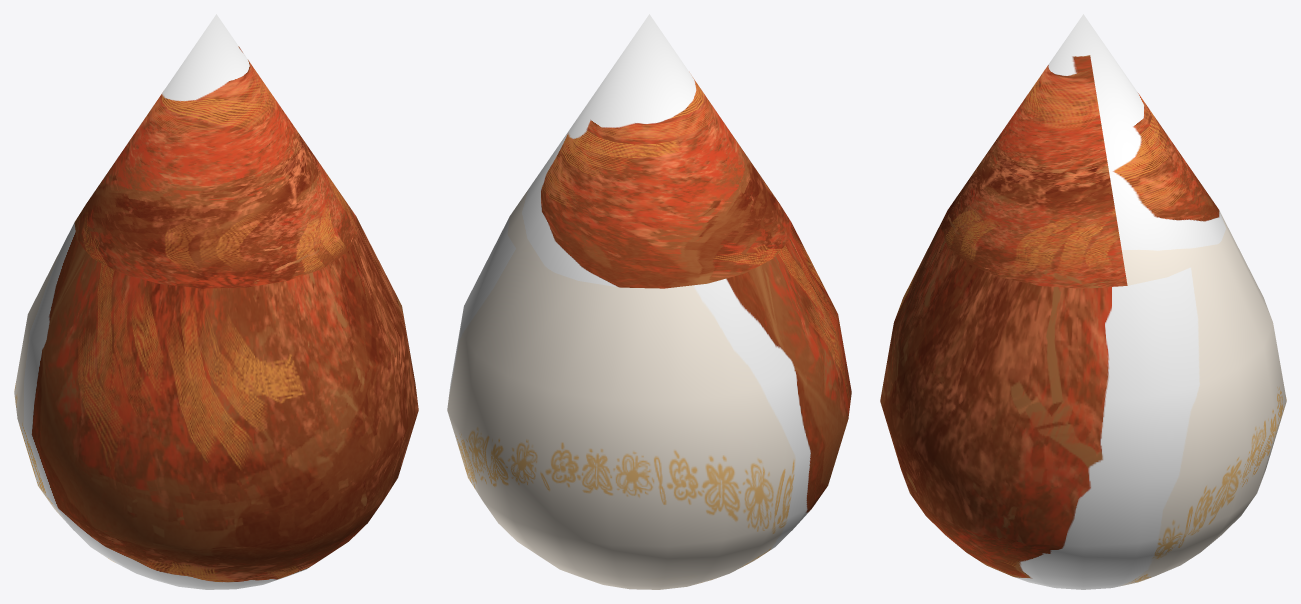
File: tear.obj
The picture shows the model from 3 angles, left to right: view 1: azimuth 30°, elevation 25°; view 2: azimuth 150°, elevation 25°; view 3: azimuth 270°, elevation 25°; orthographic projection.
Parts seen in each view (by area): view 1: pSphere2; view 2: pSphere2; view 3: pSphere2.
Boxes of the visible parts, <box> form: pSphere2: <box>14,14,418,589</box>; pSphere2: <box>447,14,851,589</box>; pSphere2: <box>880,14,1286,589</box>.
Size of the model in its own units: 1.99 by 3 by 1.99.
